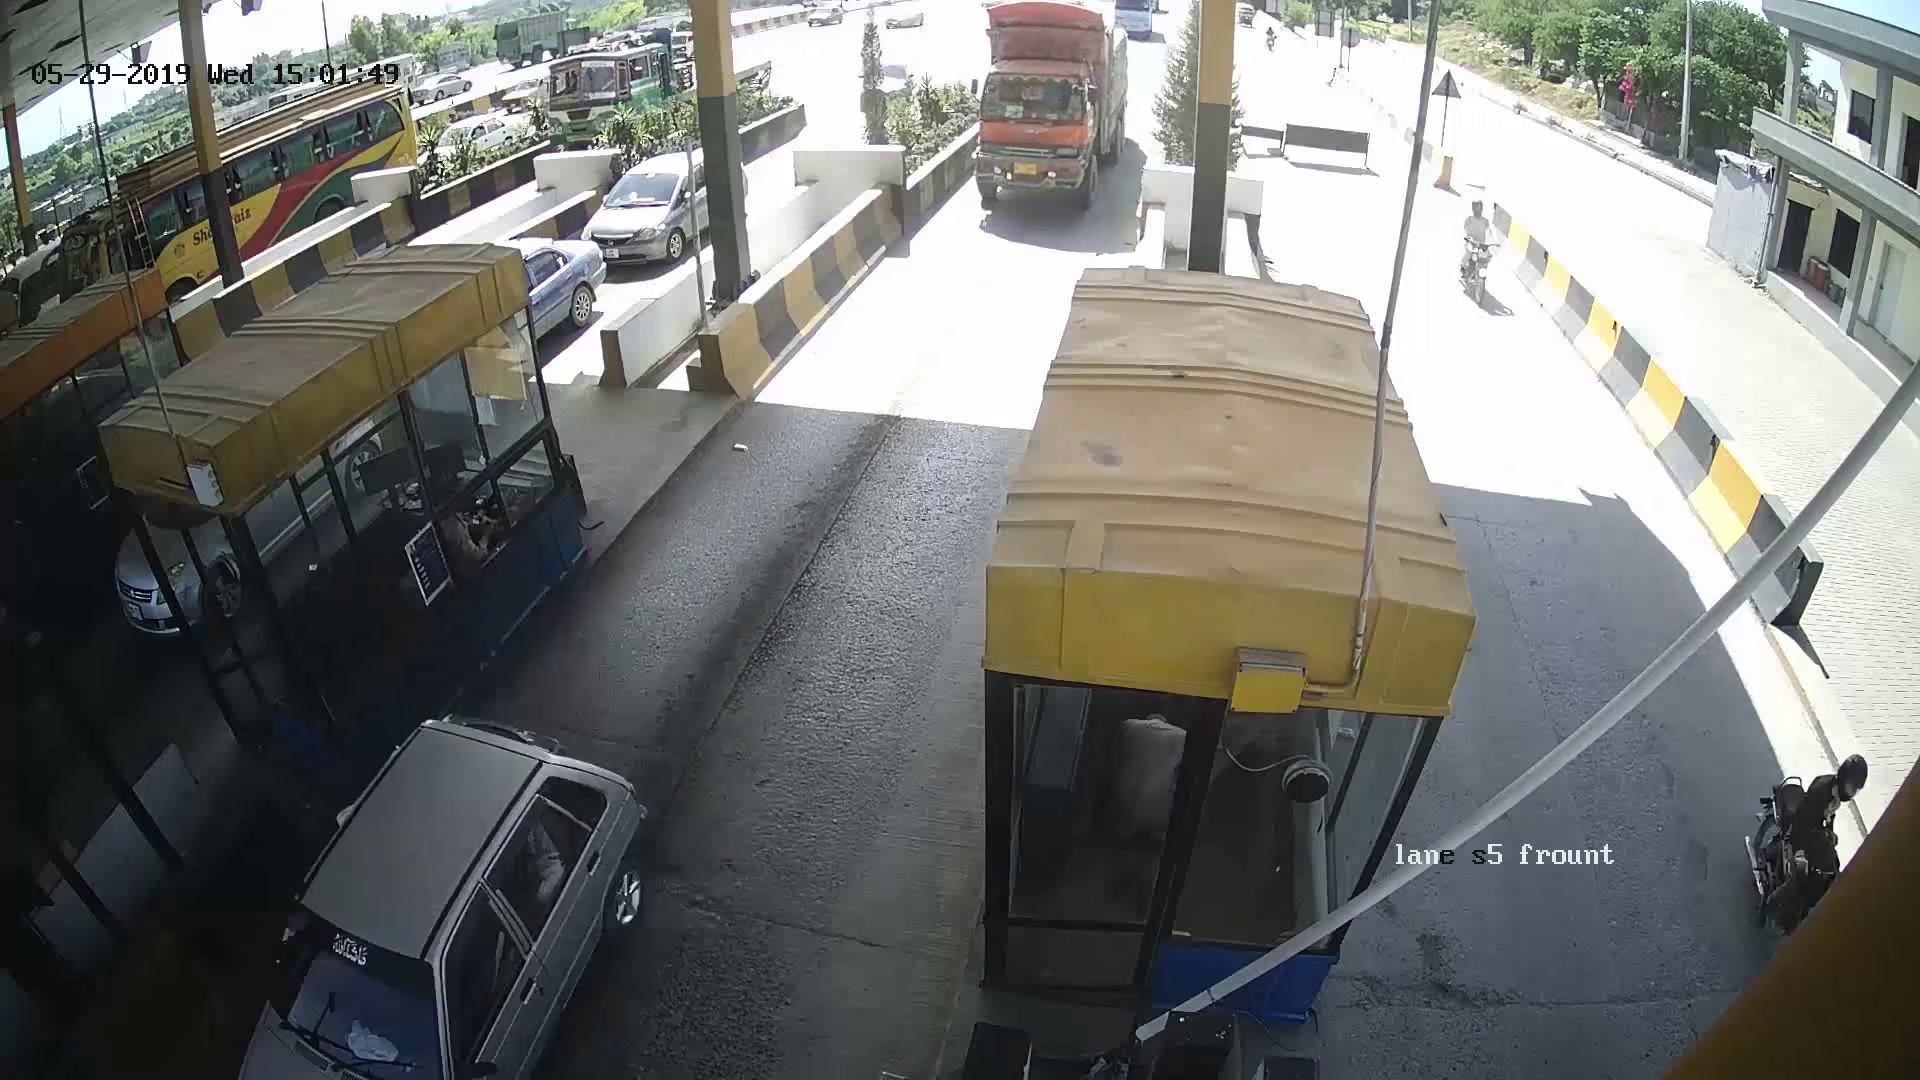car: (345, 814, 580, 1029)
truck: (964, 18, 1116, 203)
